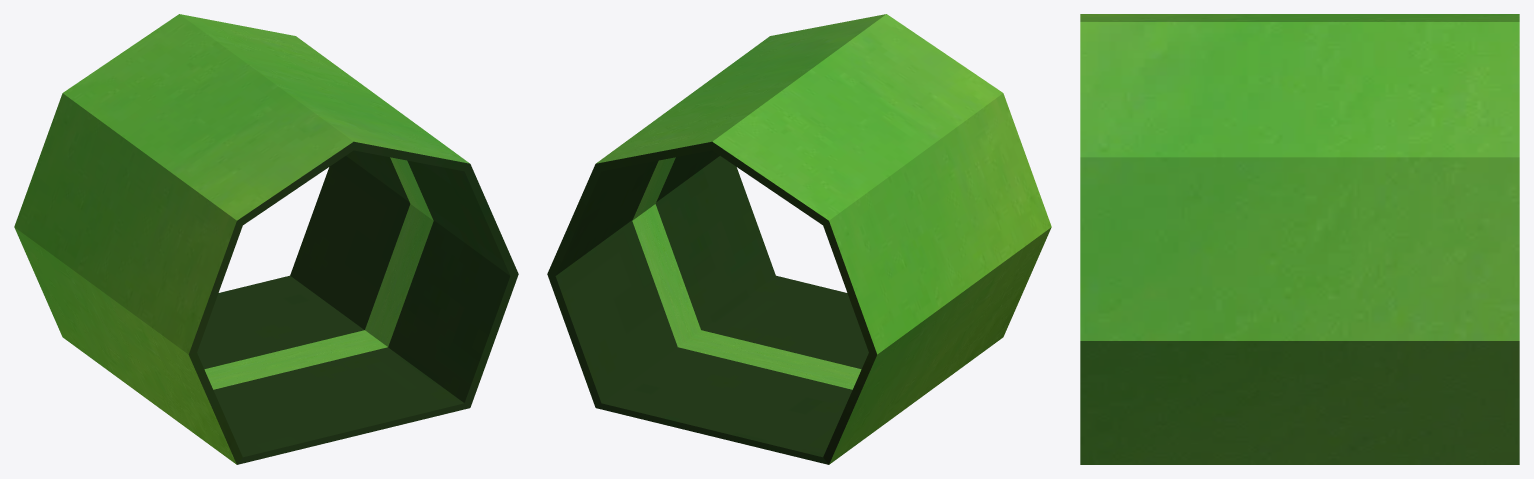
Rendered from meme-factory-fragment-art.glb.
3 views of the same model, side by side, from view 1: azimuth 30°, elevation 25°; view 2: azimuth 150°, elevation 25°; view 3: azimuth 270°, elevation 25° (orthographic). The views are drawn at different scales.
Parts seen in each view (by area): view 1: MemeFactory_Fragment_Art; view 2: MemeFactory_Fragment_Art; view 3: MemeFactory_Fragment_Art.
Part boxes in pixels (x1,y1,x2,y2): MemeFactory_Fragment_Art: (14,14,518,464); MemeFactory_Fragment_Art: (547,14,1051,464); MemeFactory_Fragment_Art: (1080,14,1519,464).
Size of the model in its own units: 3.94 by 3.36 by 3.6.
2 materials, 2 textured.
